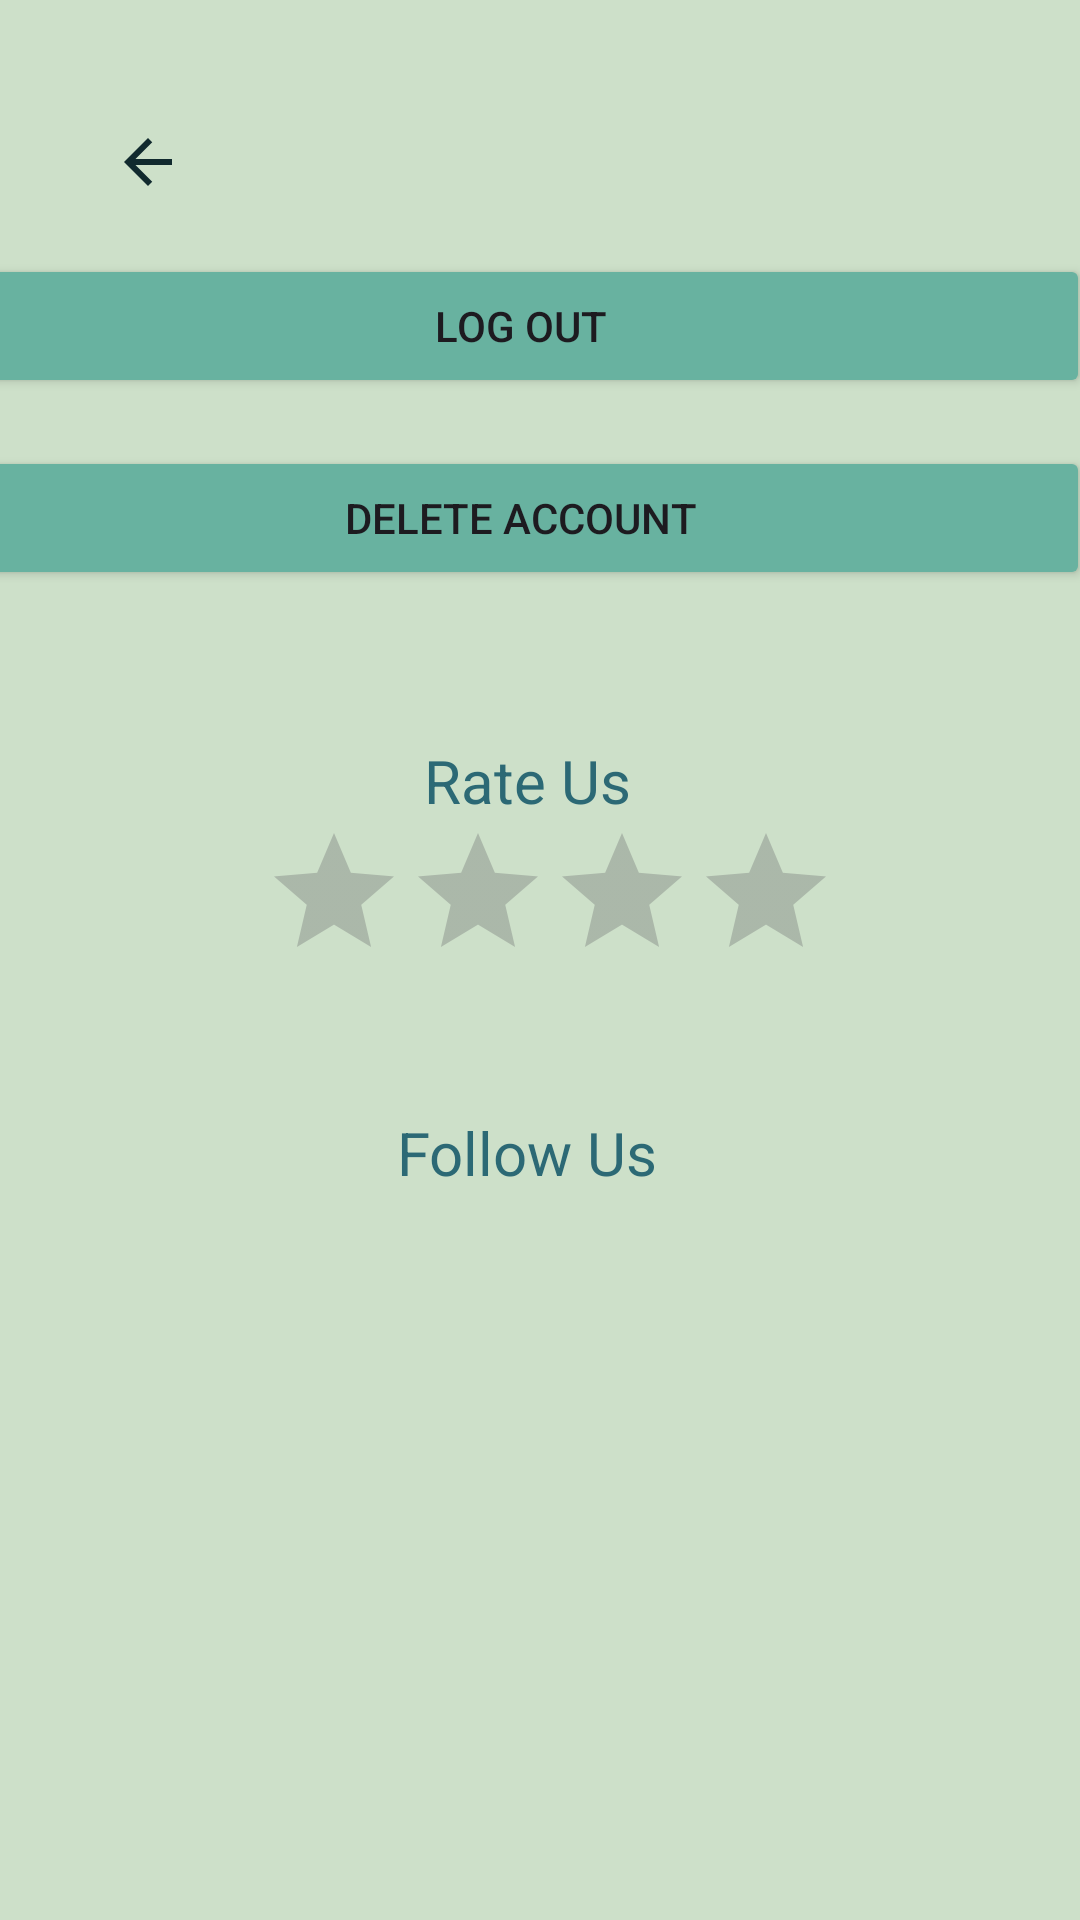

Where icons sit on this 1080x1920 app screen, as bbox=(x1, y1, x2, y2):
back arrow: bbox=(124, 138, 172, 186)
